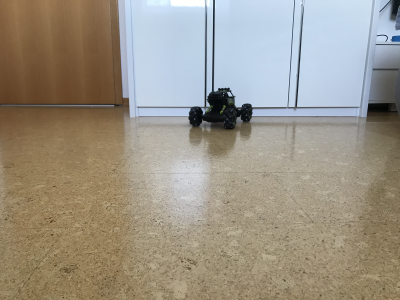remote control car: (187, 85, 253, 131)
